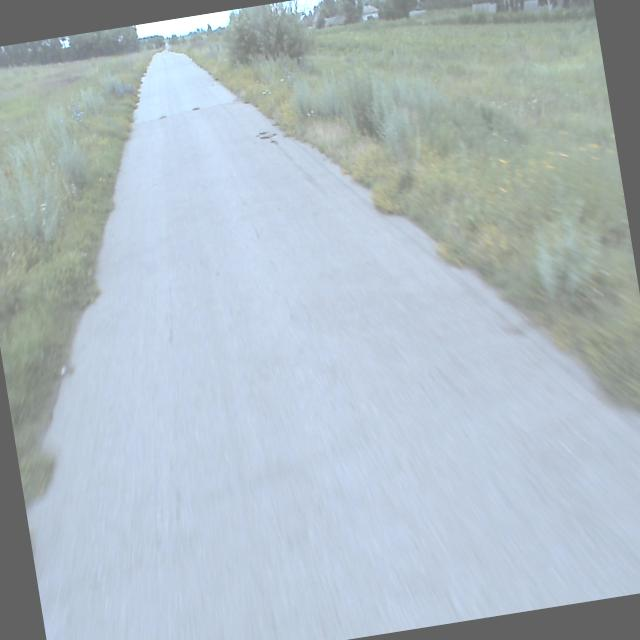road: (27, 51, 640, 640)
